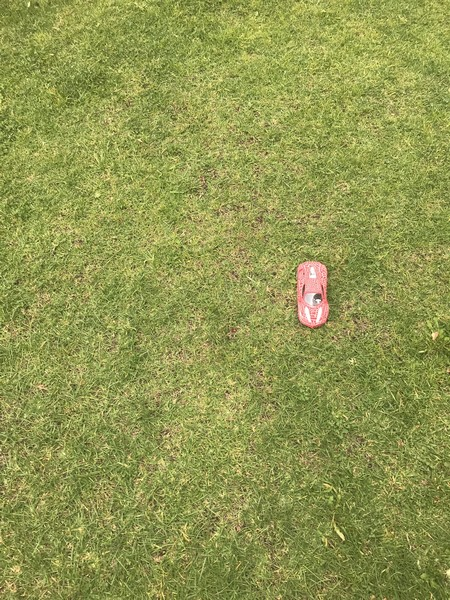RC: (293, 258, 332, 330)
